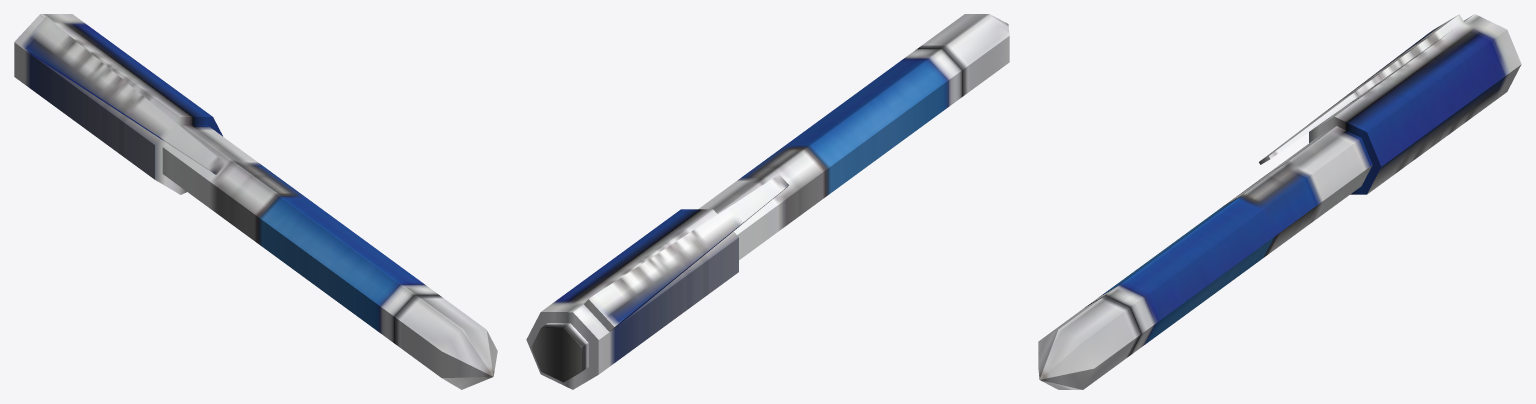
File: Pen.FBX
3 renders of one model, left to right at view 1: azimuth 30°, elevation 25°; view 2: azimuth 150°, elevation 25°; view 3: azimuth 330°, elevation 25°, orthographic.
Visible parts, largest first — view 1: Pen; view 2: Pen; view 3: Pen.
Boxes of the visible parts, x1,y1,x2,y2 form: Pen: (14, 14, 497, 389); Pen: (526, 14, 1009, 389); Pen: (1038, 14, 1521, 389).
Size of the model in its own units: 1.45 by 1.51 by 14.64.
